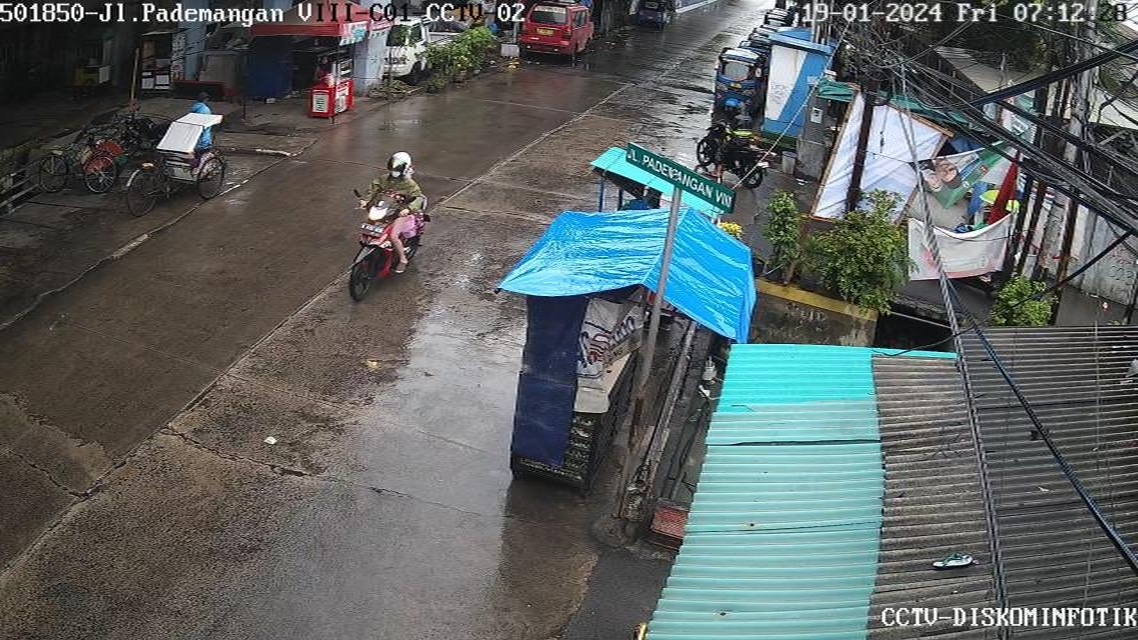Gerobak: (475, 204, 754, 493), (302, 47, 372, 132)
